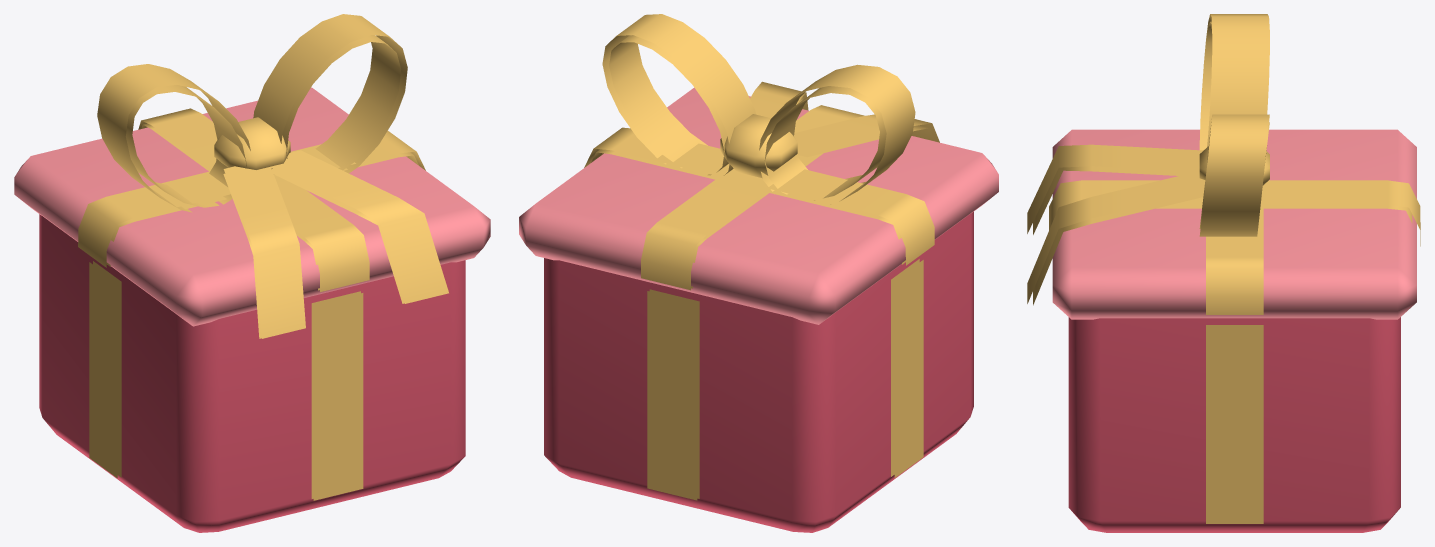
File: COghe_Gift.fbx
3 renders of one model, left to right at view 1: azimuth 30°, elevation 25°; view 2: azimuth 150°, elevation 25°; view 3: azimuth 270°, elevation 25°, orthographic.
Visible parts, largest first — view 1: Gift_Body, Gift_Bow, Gift_Lid; view 2: Gift_Body, Gift_Lid, Gift_Bow; view 3: Gift_Body, Gift_Lid, Gift_Bow.
Boxes of the visible parts, x1=… form: Gift_Body: x1=39, y1=214, x2=465, y2=532; Gift_Bow: x1=78, y1=14, x2=448, y2=338; Gift_Lid: x1=14, y1=87, x2=490, y2=326; Gift_Body: x1=544, y1=211, x2=973, y2=532; Gift_Lid: x1=519, y1=87, x2=998, y2=324; Gift_Bow: x1=584, y1=14, x2=939, y2=290; Gift_Body: x1=1068, y1=317, x2=1400, y2=532; Gift_Lid: x1=1052, y1=129, x2=1416, y2=319; Gift_Bow: x1=1027, y1=14, x2=1420, y2=314.
Size of the model in its own units: 5.81 by 6.88 by 6.15.
